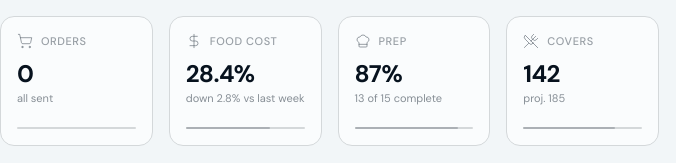
it: SolitaireCards — dashboard interactions (UI-001) › only one card expanded at a time
Click the button "Orders 0 all sent". click: (76, 81)
box: top-left (0, 16), bottom-right (153, 146)
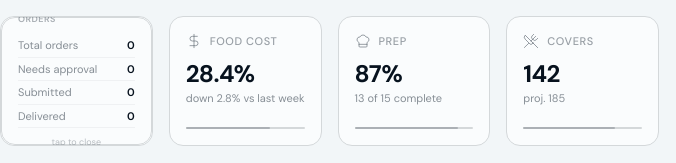
Result: the text "tap to close" is shown at top-left (52, 136), bottom-right (101, 146)
Click the button "Food Cost 28.4% down 2.8% vs last week". click: (245, 81)
box: top-left (169, 16), bottom-right (322, 146)
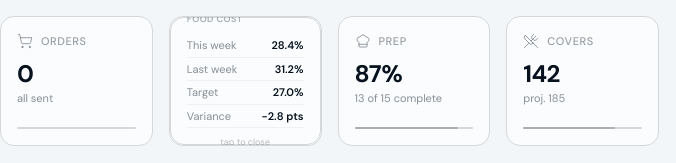
Result: the text "tap to close" is shown at top-left (220, 136), bottom-right (270, 146)
Result: the button "Orders 0 all sent" is collapsed at top-left (0, 16), bottom-right (153, 146)
Result: the button "Food Cost" is expanded at top-left (169, 16), bottom-right (322, 146)
